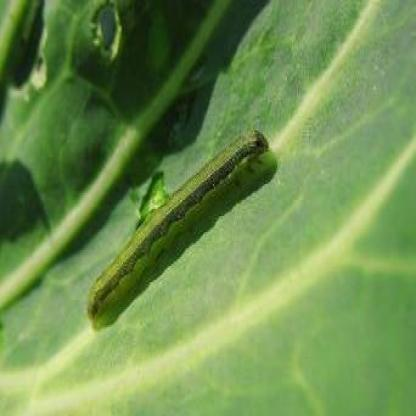armyworm: (81, 118, 275, 339)
